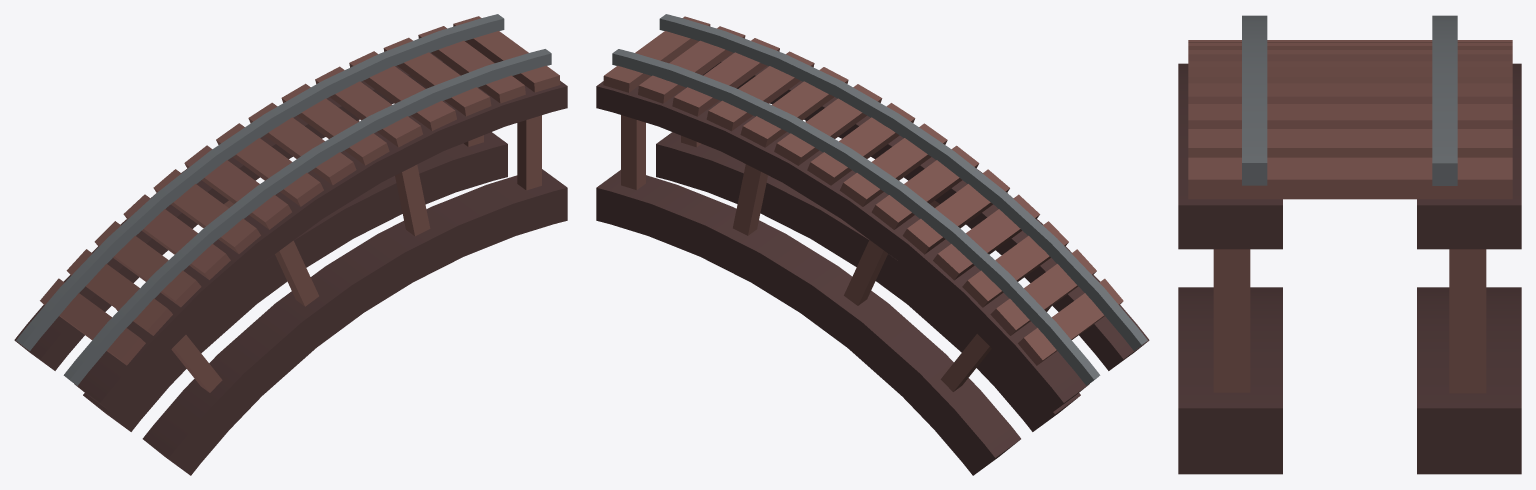
The model's file is DarkRoseWoodMechMedium0_96GaugeFall1.fbx.
3 views of the same model, side by side, from view 1: azimuth 30°, elevation 25°; view 2: azimuth 150°, elevation 25°; view 3: azimuth 270°, elevation 25° (orthographic). The views are drawn at different scales.
Parts seen in each view (by area): view 1: DarkRoseWoodMechMedium0_96GaugeFall1; view 2: DarkRoseWoodMechMedium0_96GaugeFall1; view 3: DarkRoseWoodMechMedium0_96GaugeFall1.
Boxes of the visible parts, x1=… form: DarkRoseWoodMechMedium0_96GaugeFall1: x1=14, y1=14, x2=567, y2=475; DarkRoseWoodMechMedium0_96GaugeFall1: x1=596, y1=14, x2=1149, y2=475; DarkRoseWoodMechMedium0_96GaugeFall1: x1=1178, y1=15, x2=1521, y2=474.
Size of the model in its own units: 717 by 453 by 221.
